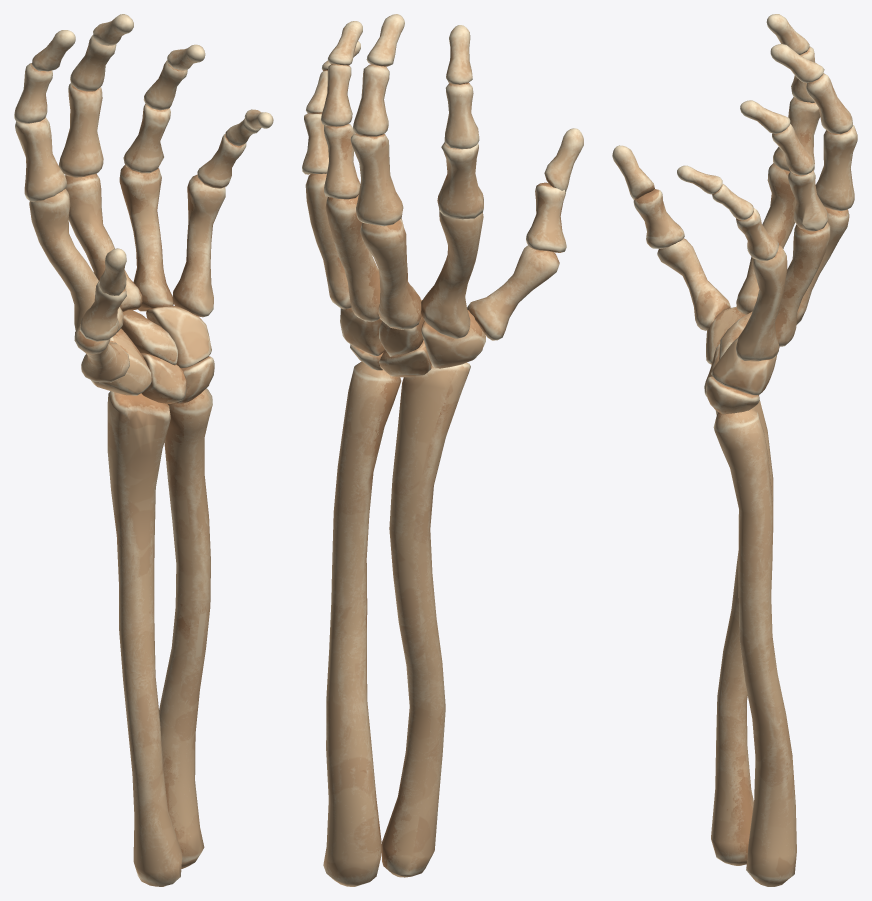
Rendered from SM_Hand.fbx.
The picture shows the model from 3 angles, left to right: view 1: azimuth 30°, elevation 25°; view 2: azimuth 150°, elevation 25°; view 3: azimuth 270°, elevation 25°; orthographic projection. The views are drawn at different scales.
Visible parts, largest first — view 1: Arm2_LP, Ram1_LP, FingerBeginning_LP, FingerPalm2_LP, FingerPalm1_LP, Finger1_LP, FingerTips_LP, Palm2_LP, Palm5_LP, Palm4_LP, Palm3_LP, Palm1_LP; view 2: Arm2_LP, Ram1_LP, FingerBeginning_LP, FingerPalm2_LP, FingerPalm1_LP, Finger1_LP, FingerTips_LP, Palm4_LP, Palm2_LP, Palm3_LP, Palm5_LP; view 3: Ram1_LP, FingerBeginning_LP, Arm2_LP, FingerPalm2_LP, FingerPalm1_LP, FingerTips_LP, Finger1_LP, Palm2_LP, Palm1_LP, Palm4_LP, Palm5_LP.
Part boxes in pixels (bbox=[...]): Arm2_LP: bbox=[107, 391, 182, 886]; Ram1_LP: bbox=[159, 388, 212, 868]; FingerBeginning_LP: bbox=[15, 83, 246, 341]; FingerPalm2_LP: bbox=[65, 174, 225, 382]; FingerPalm1_LP: bbox=[29, 165, 173, 332]; Finger1_LP: bbox=[14, 35, 260, 146]; FingerTips_LP: bbox=[32, 14, 273, 295]; Palm2_LP: bbox=[146, 306, 211, 368]; Palm5_LP: bbox=[121, 310, 177, 365]; Palm4_LP: bbox=[91, 328, 151, 395]; Palm3_LP: bbox=[141, 353, 186, 403]; Palm1_LP: bbox=[174, 356, 214, 404]; Arm2_LP: bbox=[382, 362, 470, 877]; Ram1_LP: bbox=[323, 361, 401, 886]; FingerBeginning_LP: bbox=[302, 113, 566, 252]; FingerPalm2_LP: bbox=[305, 173, 559, 340]; FingerPalm1_LP: bbox=[325, 195, 483, 338]; Finger1_LP: bbox=[306, 64, 479, 149]; FingerTips_LP: bbox=[322, 14, 583, 191]; Palm4_LP: bbox=[421, 310, 485, 368]; Palm2_LP: bbox=[340, 307, 385, 355]; Palm3_LP: bbox=[379, 340, 431, 377]; Palm5_LP: bbox=[379, 299, 424, 356]; Ram1_LP: bbox=[713, 409, 796, 886]; FingerBeginning_LP: bbox=[633, 97, 857, 260]; Arm2_LP: bbox=[711, 400, 773, 865]; FingerPalm2_LP: bbox=[657, 207, 849, 361]; FingerPalm1_LP: bbox=[736, 163, 830, 346]; FingerTips_LP: bbox=[612, 14, 824, 199]; Finger1_LP: bbox=[712, 46, 852, 220]; Palm2_LP: bbox=[711, 337, 776, 395]; Palm1_LP: bbox=[706, 376, 759, 414]; Palm4_LP: bbox=[706, 306, 745, 364]; Palm5_LP: bbox=[718, 311, 779, 360].
Bounding box in the file's own units: 41.51 × 165 × 44.79.
